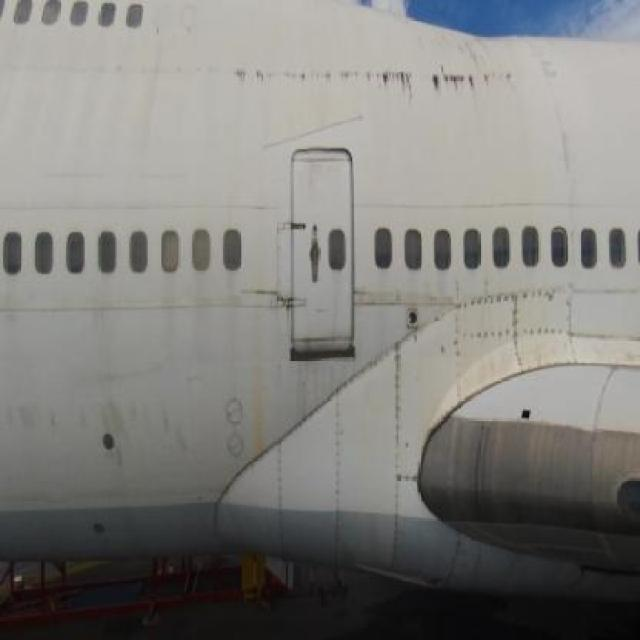Missing-Rivet: (387, 332, 408, 579), (212, 456, 268, 529), (328, 385, 346, 563), (283, 392, 328, 448), (447, 283, 467, 408), (269, 441, 288, 561), (504, 281, 527, 376), (563, 280, 583, 372), (345, 353, 389, 392), (466, 322, 509, 350), (465, 277, 506, 306), (524, 282, 568, 306), (526, 322, 566, 347)
Rust: (249, 333, 274, 455)
Scartch: (229, 46, 545, 111), (255, 115, 371, 148), (236, 282, 296, 322)
